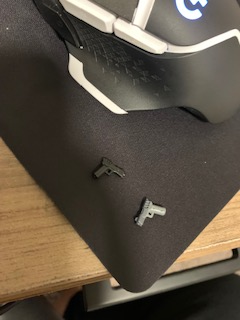pistol: (131, 194, 168, 228), (92, 153, 126, 184)
